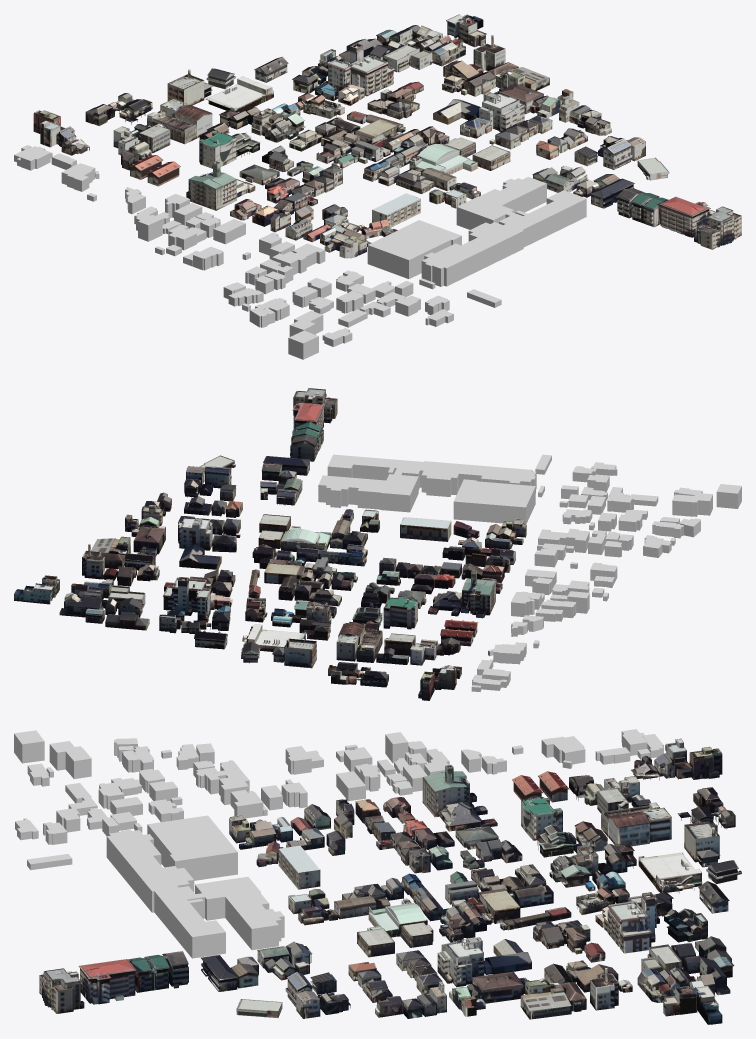
The model's file is station-3-0-packed.glb.
3 renders of one model, top to bottom at view 1: azimuth 30°, elevation 25°; view 2: azimuth 150°, elevation 25°; view 3: azimuth 270°, elevation 25°, orthographic. The views are drawn at different scales.
Size of the model in its own units: 318 by 23.11 by 347.
Materials: 12 (11 with a texture image).
